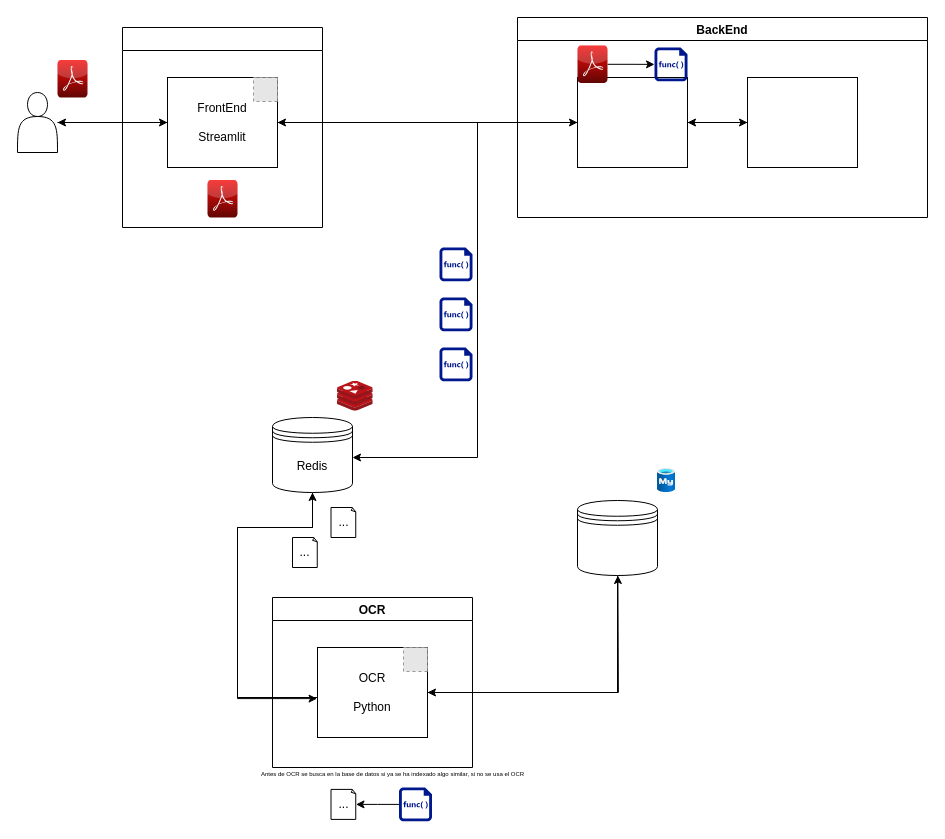
This 945x839 diagram has some shape labels left out. Grey dashed boxes stand in for pictures. Each missing label, with the centre of its shape:
BackEnd FastAPI: the point at 632,122
FrontEnd: the point at 222,127
Modelo: the point at 802,122
MySQL: the point at 617,538
